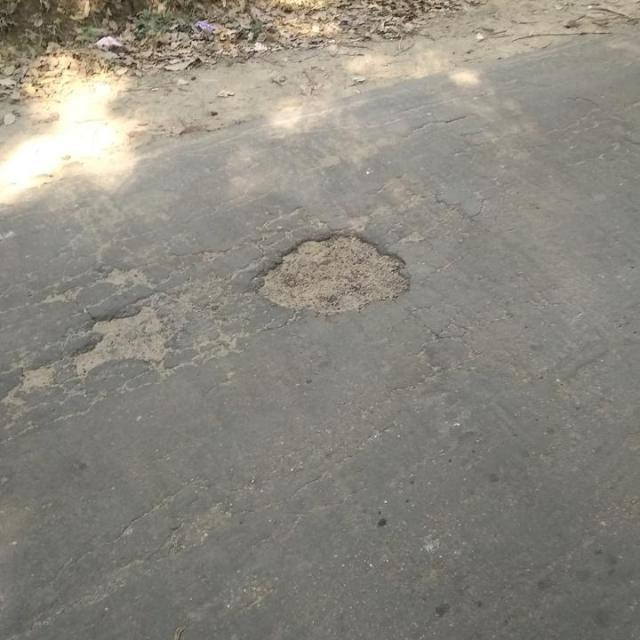pothole: (256, 228, 414, 318), (74, 300, 175, 380)
